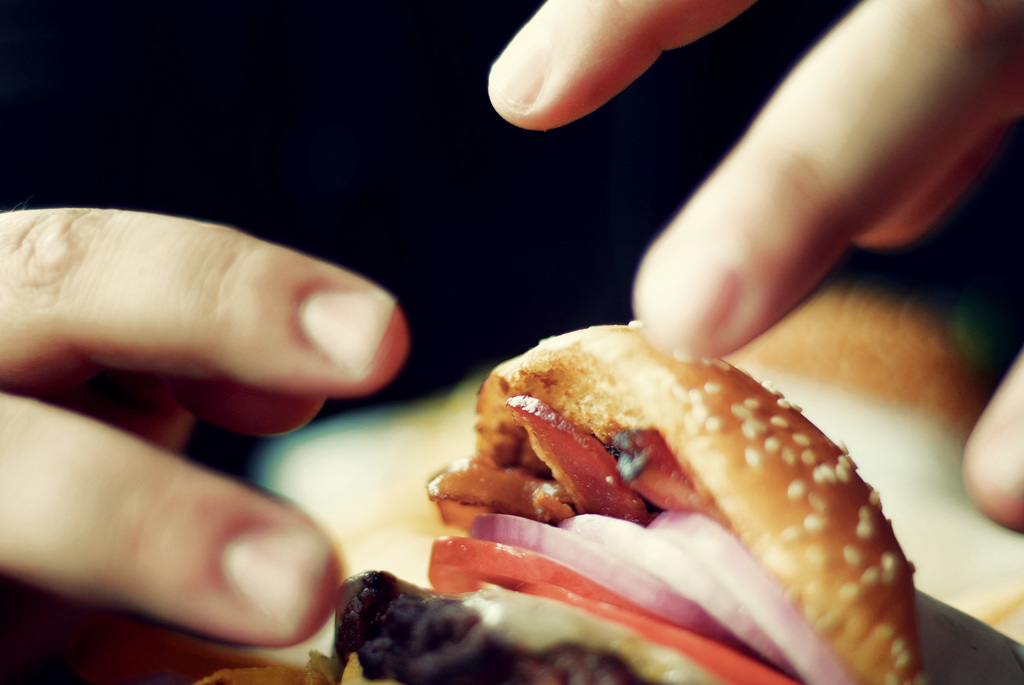Hamburger: (197, 321, 918, 684)
